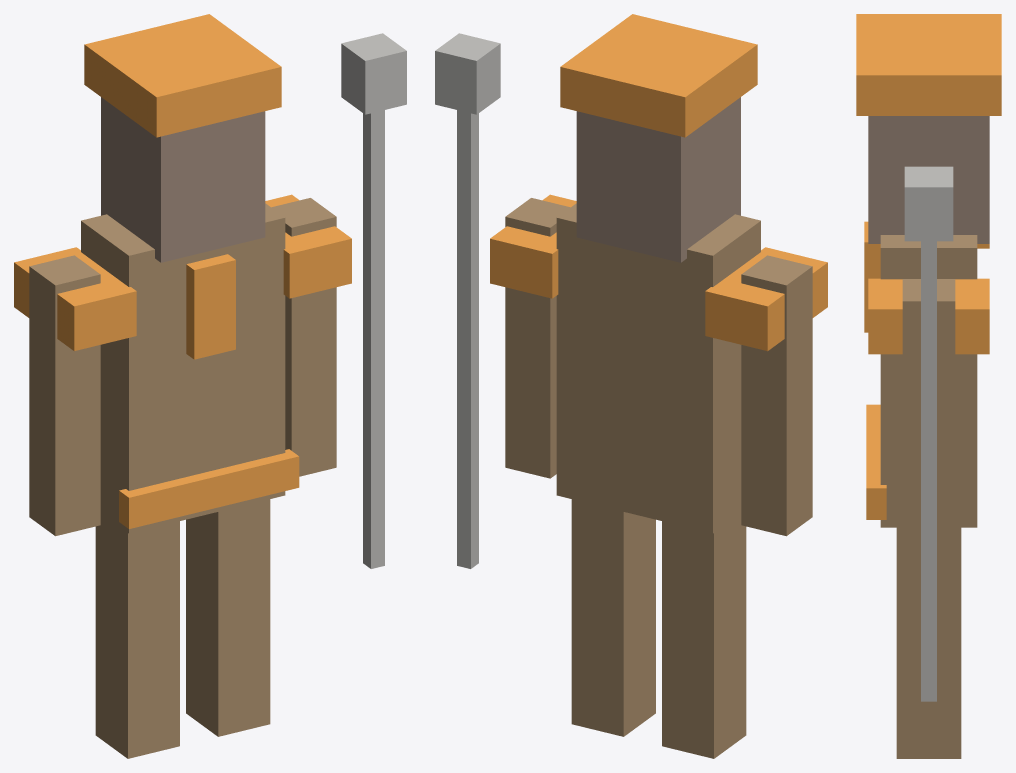
File: 04_makoa_spirebound_watcher_from_reactor.glb
The picture shows the model from 3 angles, left to right: view 1: azimuth 30°, elevation 25°; view 2: azimuth 150°, elevation 25°; view 3: azimuth 270°, elevation 25°; orthographic projection.
Parts seen in each view (by area): view 1: Makoa Spirebound, Watcher from Reactor; view 2: Makoa Spirebound, Watcher from Reactor; view 3: Makoa Spirebound, Watcher from Reactor.
Boxes of the visible parts, x1=… form: Makoa Spirebound, Watcher from Reactor: x1=14, y1=14, x2=406, y2=758; Makoa Spirebound, Watcher from Reactor: x1=435, y1=14, x2=827, y2=758; Makoa Spirebound, Watcher from Reactor: x1=856, y1=14, x2=1001, y2=758.
Size of the model in its own units: 0.9345 by 1.71 by 0.3314.
